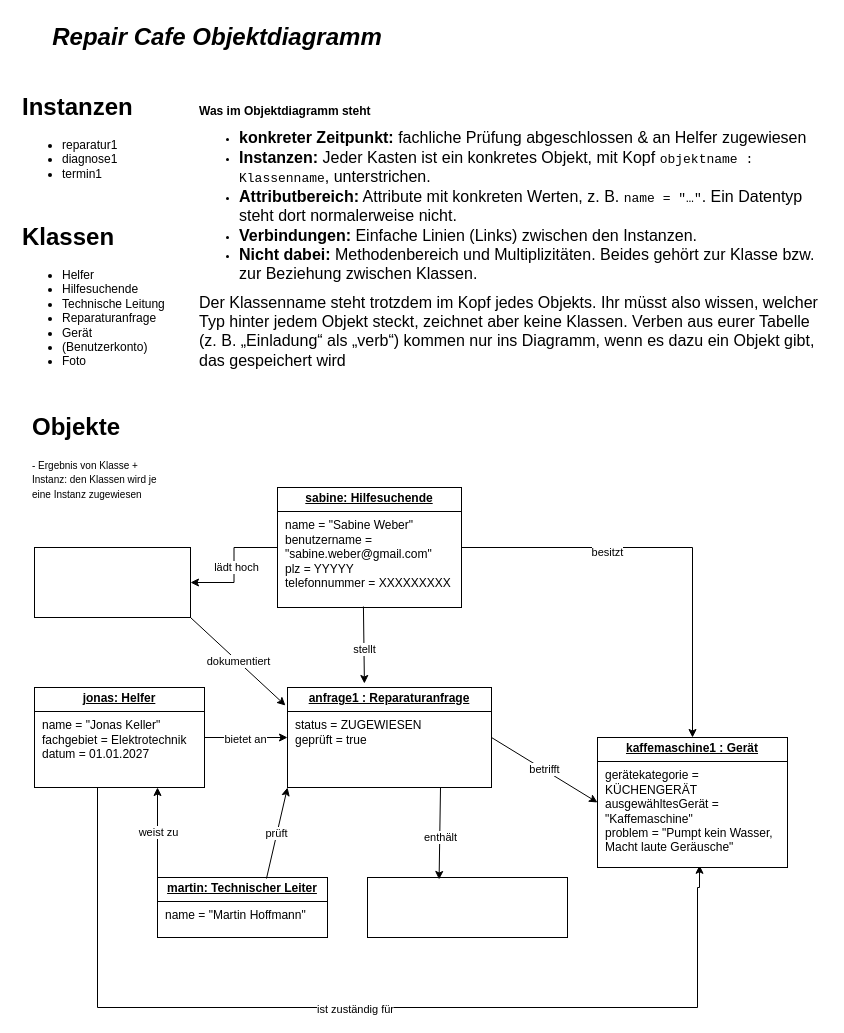
Image size: 844x1033. Some labels were removed from this diagram. The centre of each missing label's shape, as x and y in pixels:
diagnose1 : Diagnosetermin status = OFFEN datum = 01.01.2027: point 467,907
foto1 : Foto dateiname = "defekt1.img": point 112,582
